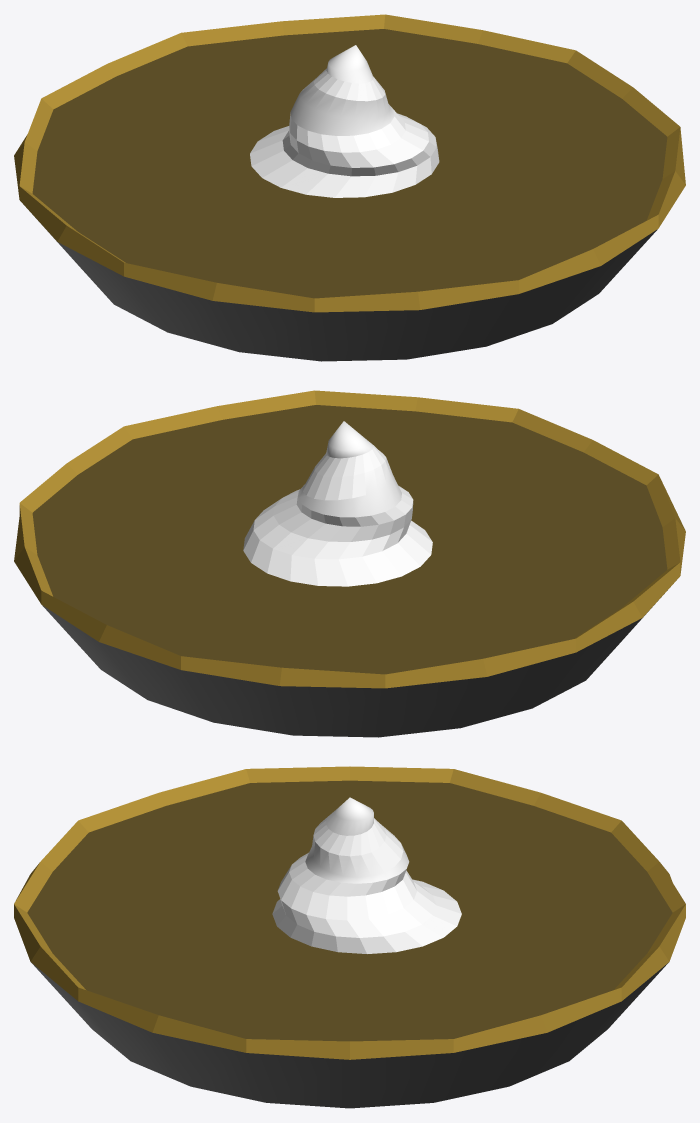
The model's file is pumpkinPieFBX.fbx.
3 views of the same model, one above another, from view 1: azimuth 30°, elevation 25°; view 2: azimuth 150°, elevation 25°; view 3: azimuth 270°, elevation 25° (orthographic).
Visible parts, largest first — view 1: pCylinder2; view 2: pCylinder2; view 3: pCylinder2.
Boxes of the visible parts, x1,y1,x2,y2 form: pCylinder2: (14,14,685,361); pCylinder2: (14,390,685,737); pCylinder2: (14,766,685,1108).
Bounding box in the file's own units: 12.5 × 4.09 × 12.5.
